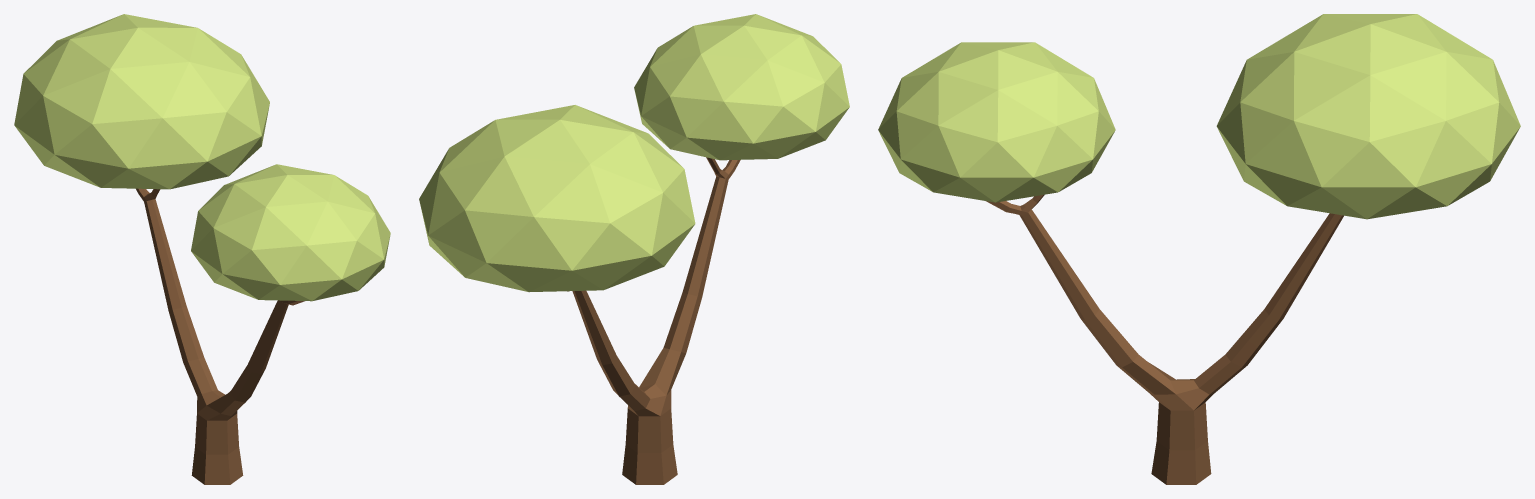
Rendered from tree2.glb.
The picture shows the model from 3 angles, left to right: view 1: azimuth 30°, elevation 25°; view 2: azimuth 150°, elevation 25°; view 3: azimuth 270°, elevation 25°; orthographic projection. The views are drawn at different scales.
Visible parts, largest first — view 1: Tree2; view 2: Tree2; view 3: Tree2.
Boxes of the visible parts, box(x1,y1,x2,y2) form: Tree2: box(14, 14, 390, 484); Tree2: box(419, 14, 849, 484); Tree2: box(878, 14, 1520, 484).
Bounding box in the file's own units: 2.89 × 4.98 × 6.43.
